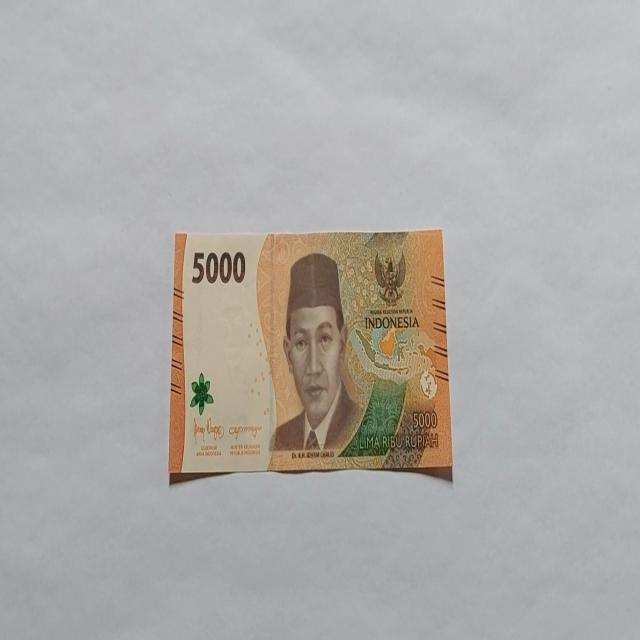lima ribu rupiah: (168, 228, 453, 484), (268, 251, 364, 457)
